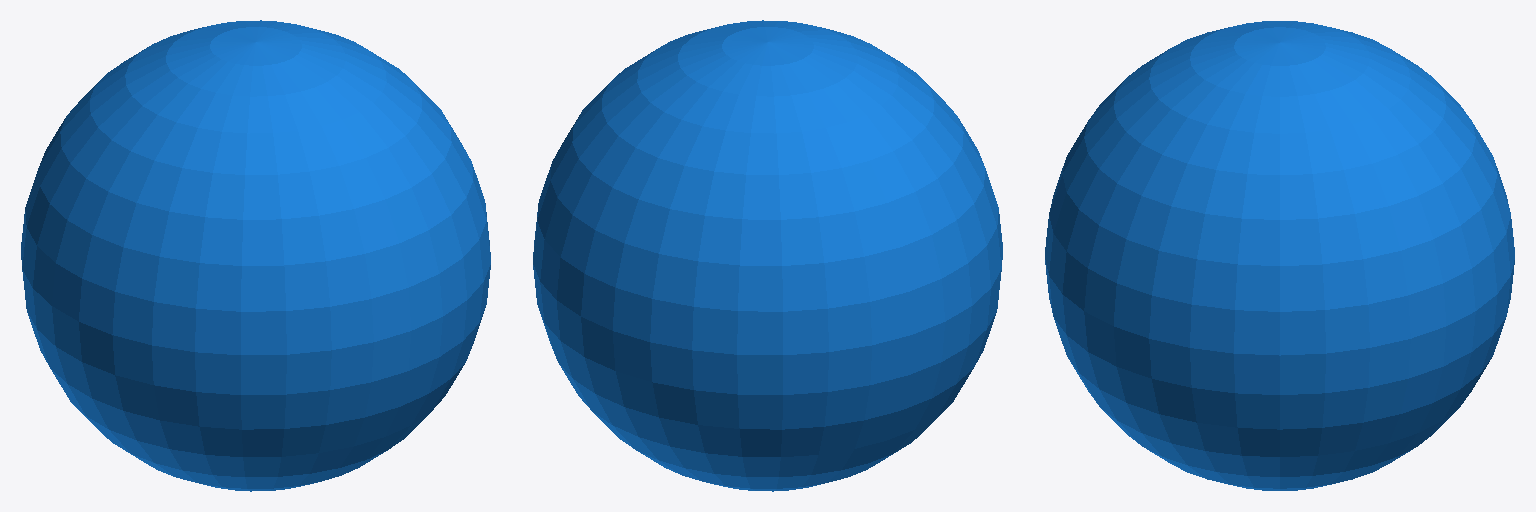
The robot description file, URDF, robot "link_inertial_sphere":
<?xml version="1.0"?>
<robot name="link_inertial_sphere">
    <link name="base_link">
        <!-- Visual：外观 -->
        <visual>
            <origin xyz="0 0 0.2"/>
            <geometry>
                <sphere radius="0.2"/>
            </geometry>
            <material name="blue">
                <color rgba="0.15 0.55 0.90 0.5"/>
            </material>
        </visual>

        <!-- Collision：碰撞几何 -->
        <collision>
            <origin xyz="0 0 0.2"/>
            <geometry>
                <sphere radius="0.2"/>
            </geometry>
        </collision>

        <!-- Inertial：惯性属性 -->
        <inertial>
            <origin xyz="0 0 0.2"/>
            <mass value="3.0"/>
            <inertia
                ixx="0.048"
                ixy="0.0"
                ixz="0.0"
                iyy="0.048"
                iyz="0.0"
                izz="0.048"/>
        </inertial>
    </link>
</robot>

--- Render facts (derived) ---
The picture shows the robot from 3 angles, left to right: view 1: azimuth 30°, elevation 25°; view 2: azimuth 150°, elevation 25°; view 3: azimuth 270°, elevation 25°; orthographic projection.
Model link_inertial_sphere with 1 links and 0 joints (none), rooted at base_link, posed all joints at 0.
Visible links, largest first — view 1: base_link; view 2: base_link; view 3: base_link.
Boxes of the visible links, x1=… form: base_link: x1=21, y1=20, x2=490, y2=491; base_link: x1=533, y1=20, x2=1002, y2=491; base_link: x1=1045, y1=21, x2=1514, y2=490.
Size in the robot's own frame: 0.4 by 0.4 by 0.4 metres.
Geometry: primitives only (box / cylinder / sphere), no mesh files.
